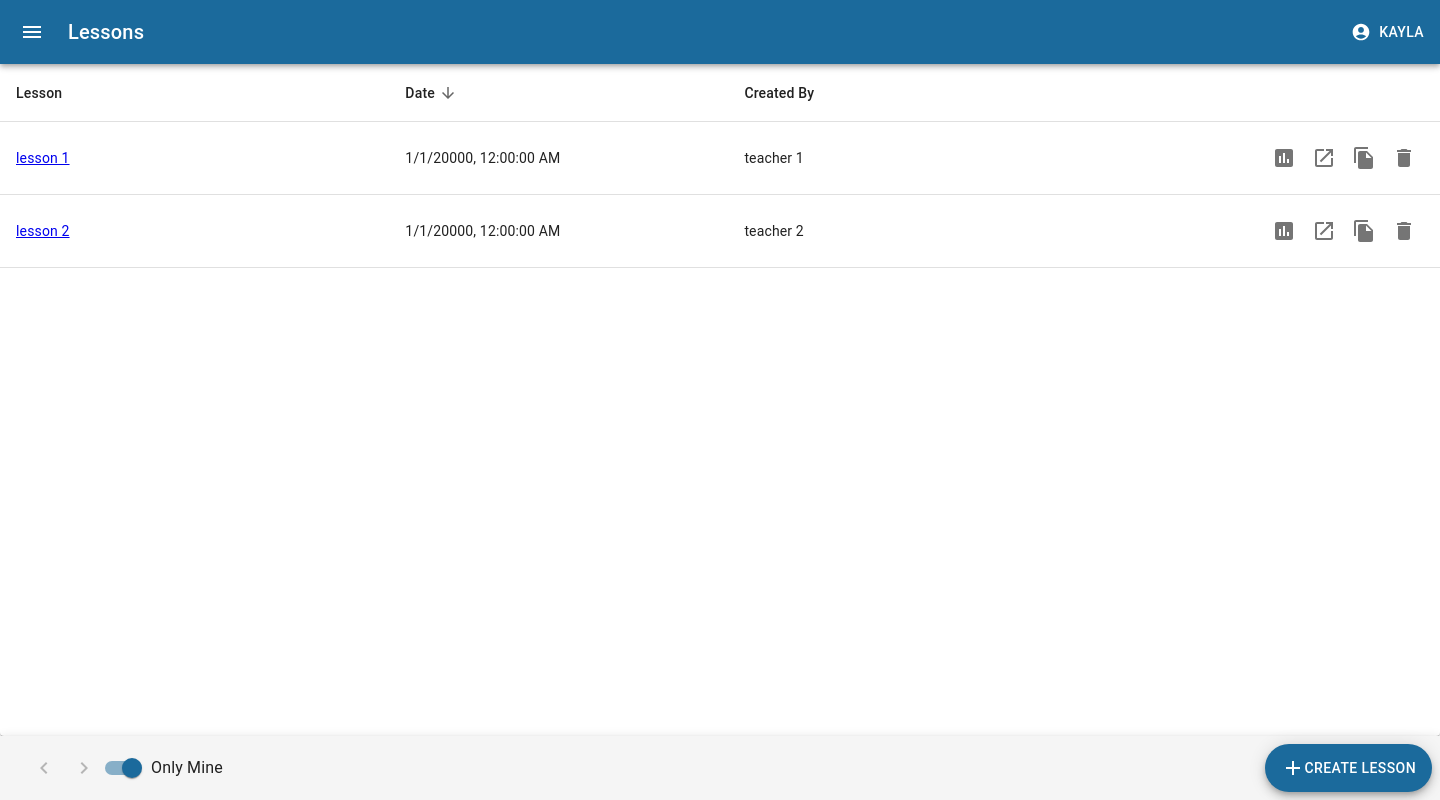
Test: lessons screen › displays a list of lessons
Expected: the link "lesson 1" is shown, [16, 150, 70, 166]
Expected: the element with test id "launch-button" is enabled
Hover over the button with test id "grade-button" in the row of "lesson 1" at {"x": 1284, "y": 158}, box [1264, 138, 1304, 178]
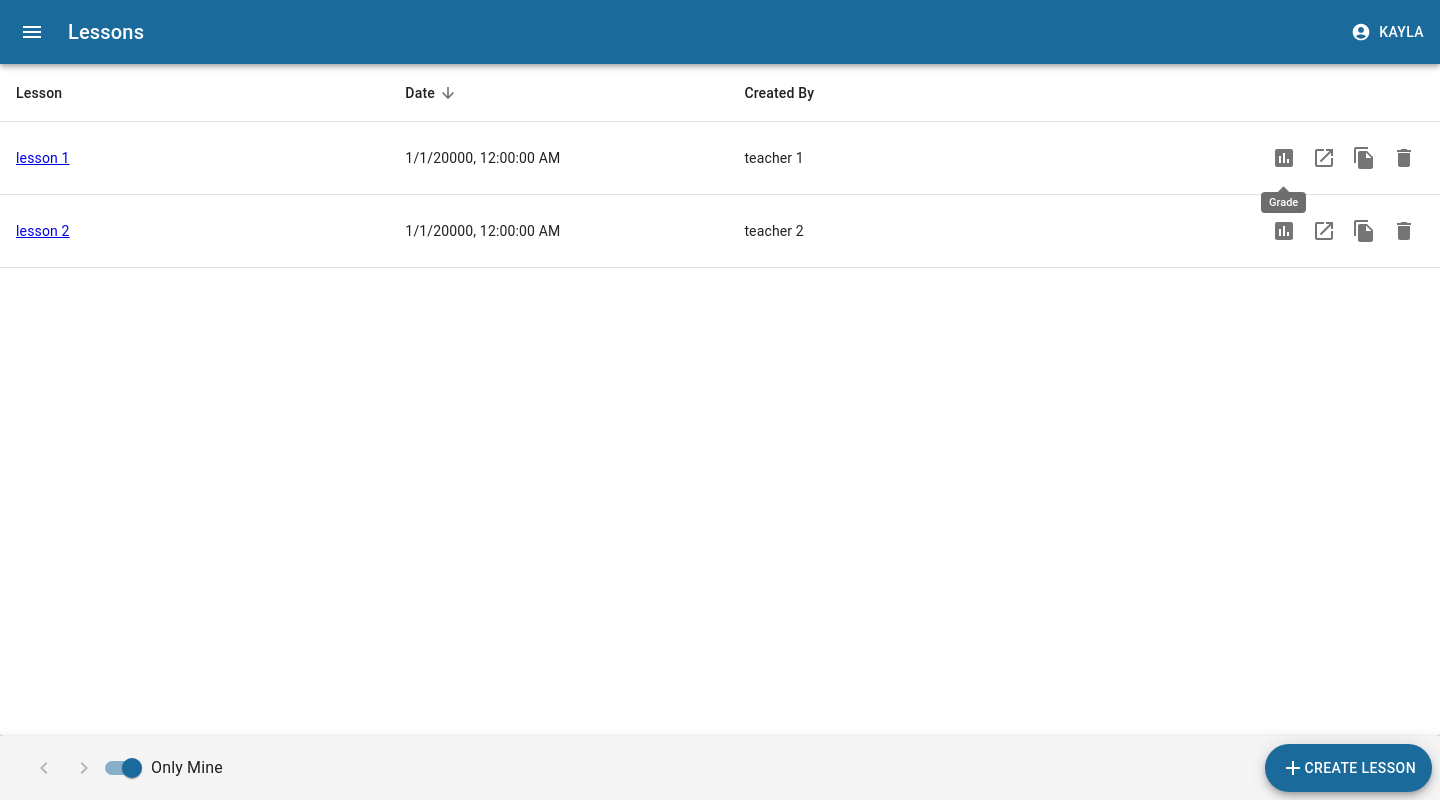
Expected: the text "Grade" is shown, [1261, 192, 1306, 213]
Hover over the button with test id "launch-button" in the row of "lesson 1" at {"x": 1324, "y": 158}, box [1304, 138, 1344, 178]
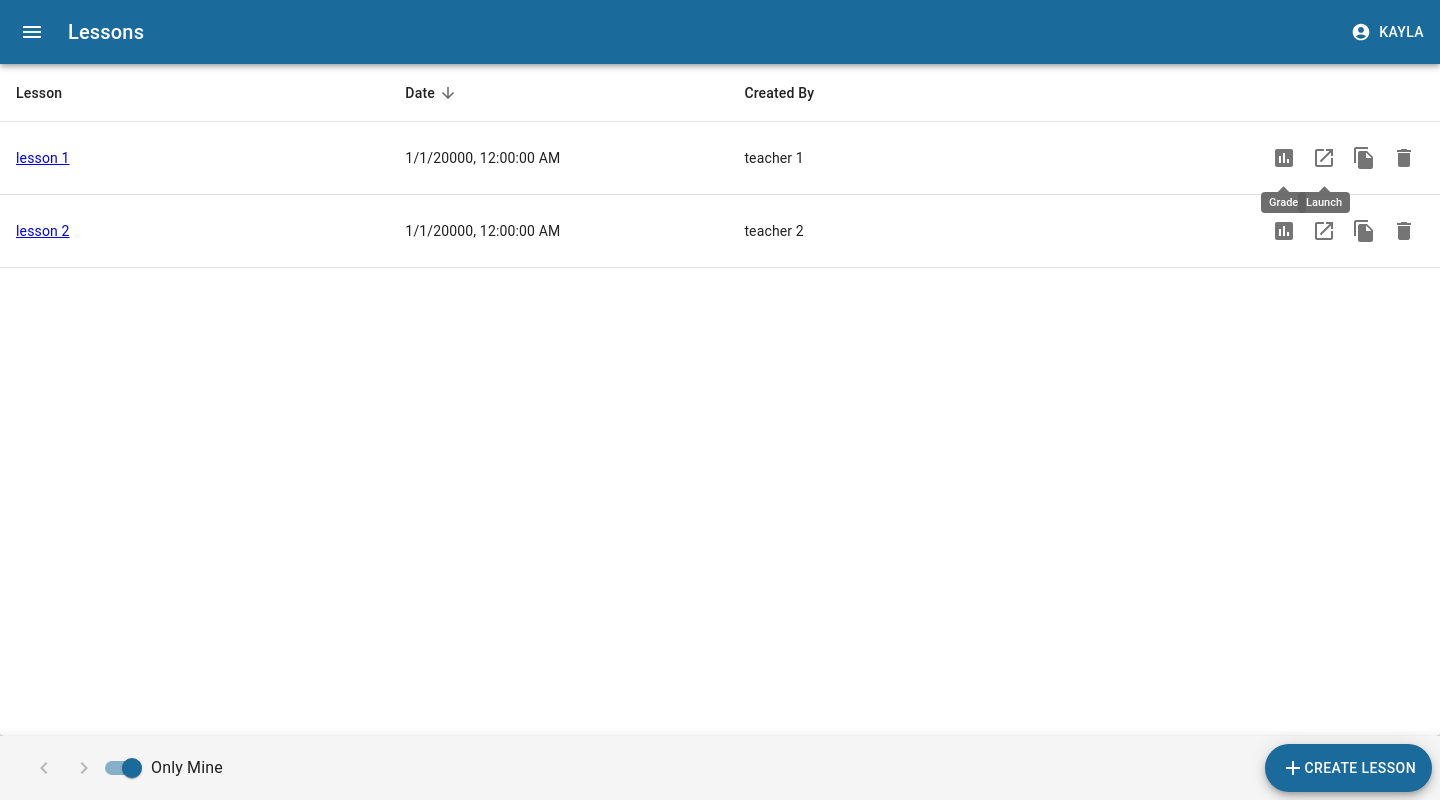
Expected: the text "Launch" is shown, [1298, 192, 1350, 213]
Hover over the button with test id "copy-button" in the row of "lesson 1" at {"x": 1364, "y": 158}, box [1344, 138, 1384, 178]
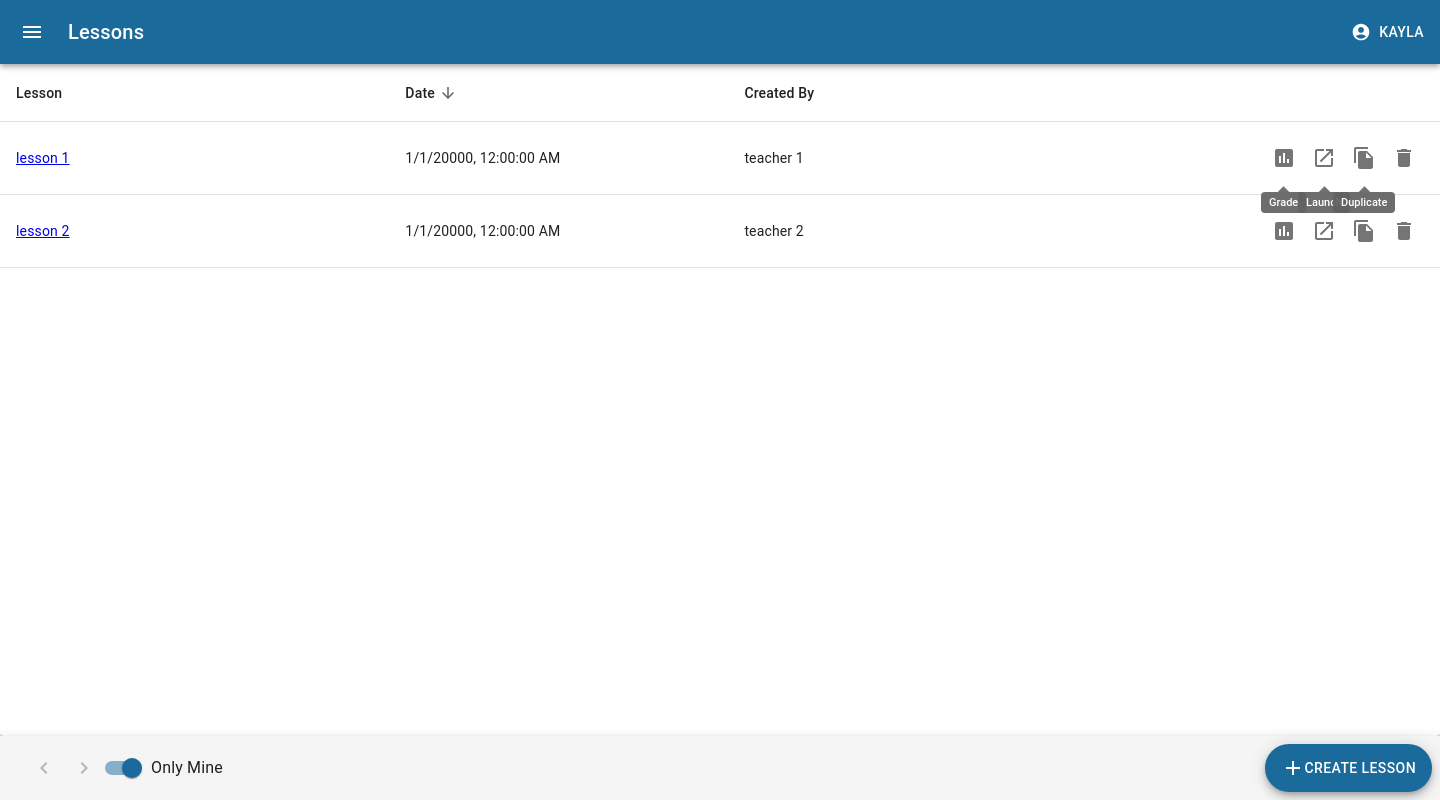
Expected: the text "Duplicate" is shown, [1333, 192, 1395, 213]
Hover over the button with test id "delete-button" in the row of "lesson 1" at {"x": 1404, "y": 158}, box [1384, 138, 1424, 178]
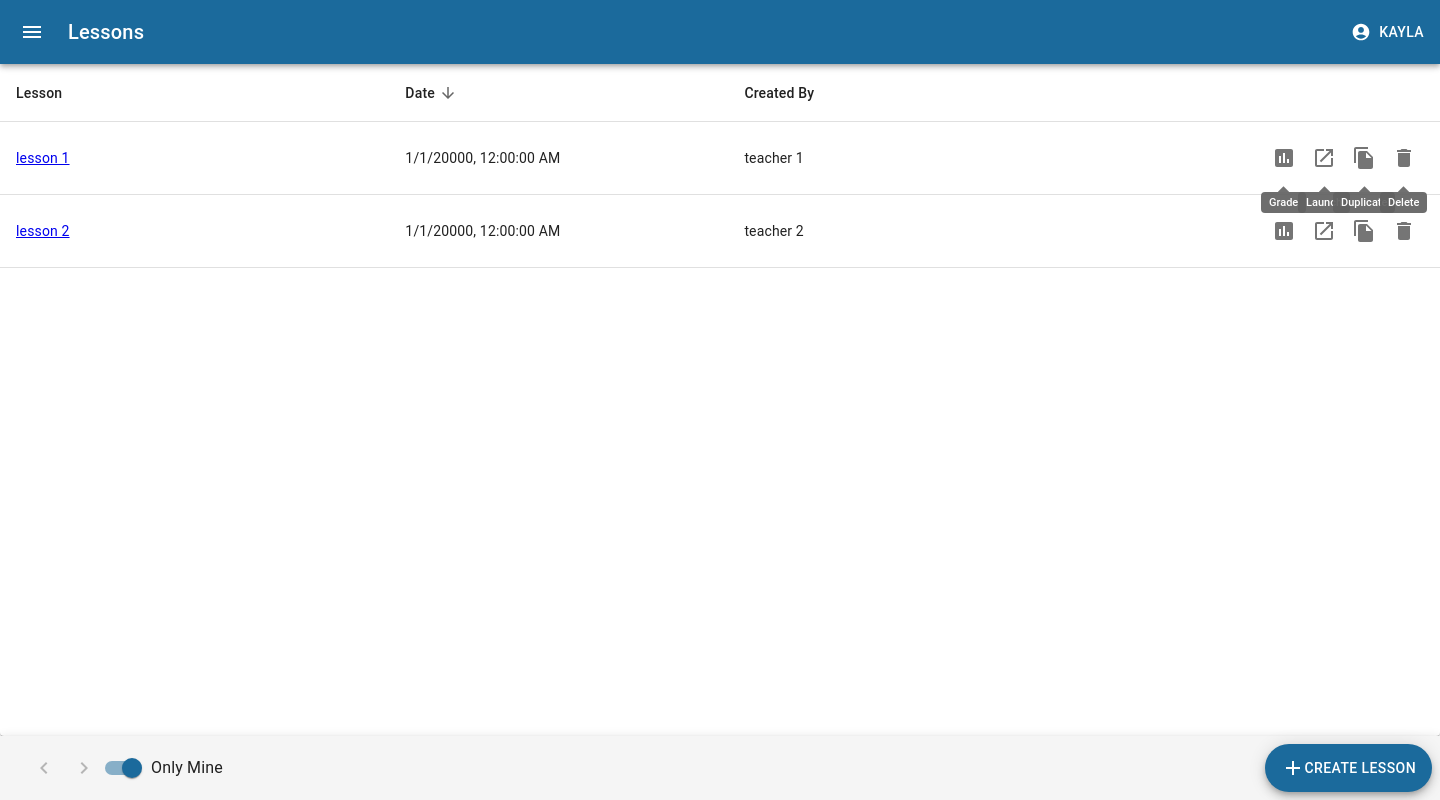
Expected: the text "Delete" is shown, [1380, 192, 1427, 213]
